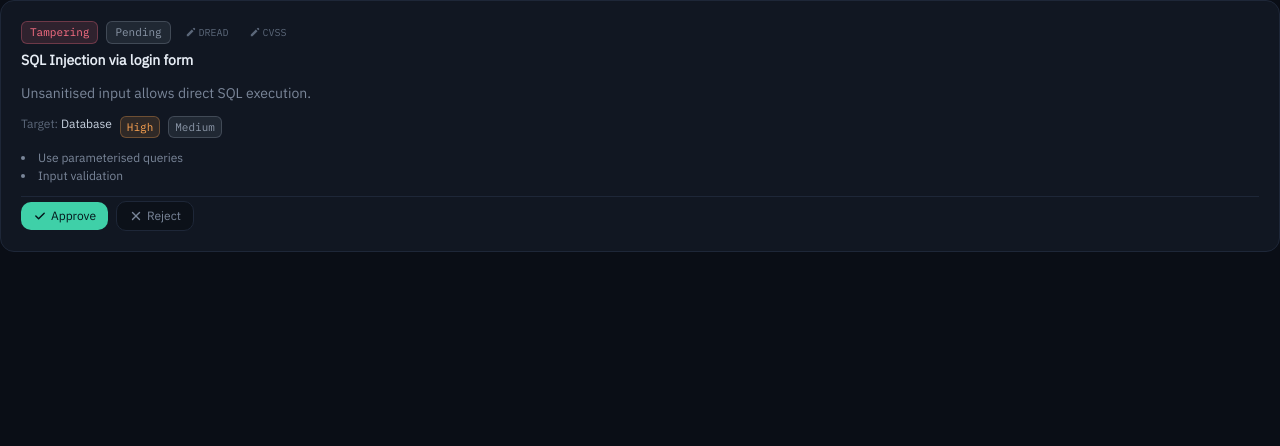
Test: ThreatCard › closes DREAD edit form on Cancel
Click the button "DREAD": (207, 32) [179,23,235,42]
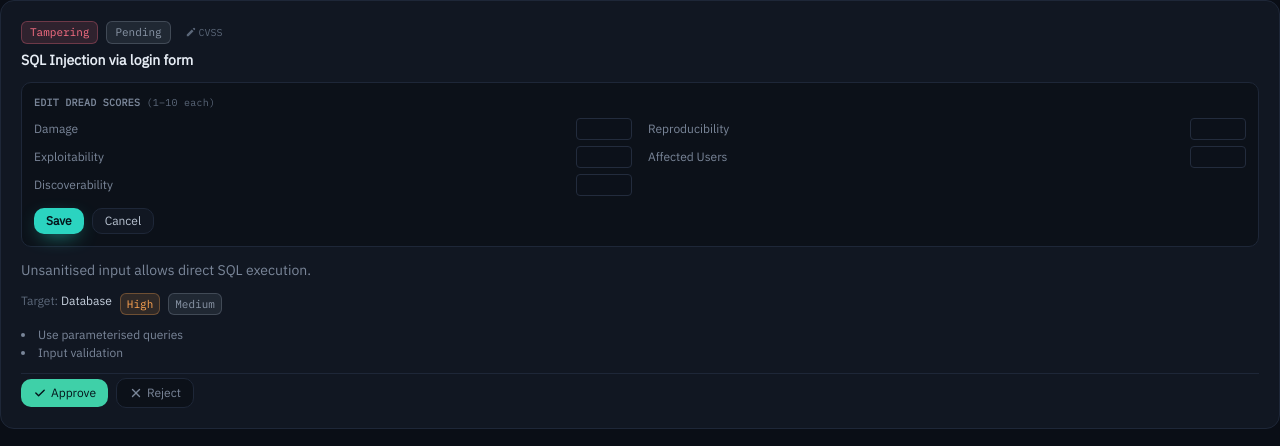
Click the button "Cancel": (123, 220) [92,208,154,234]
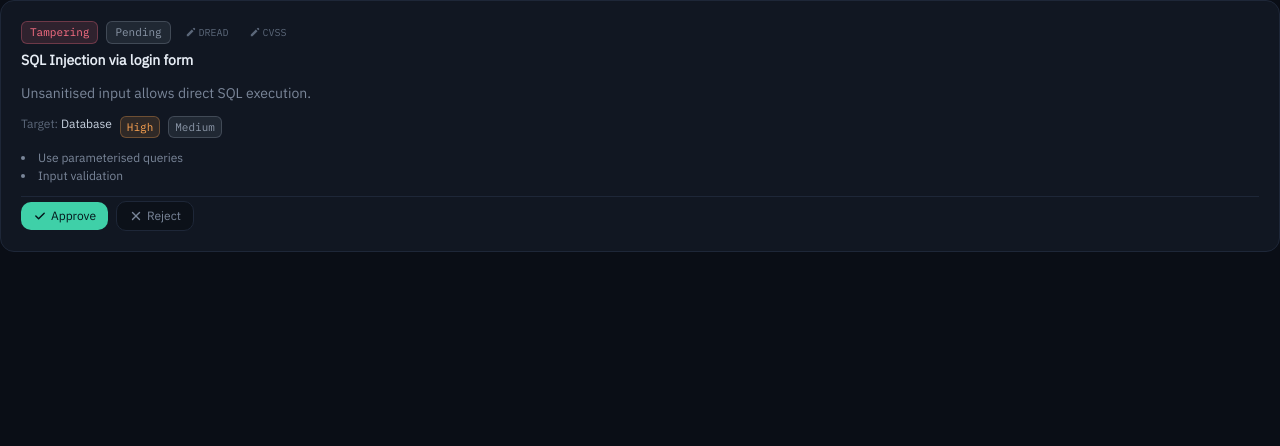
Result: the text "Edit DREAD scores" is gone
